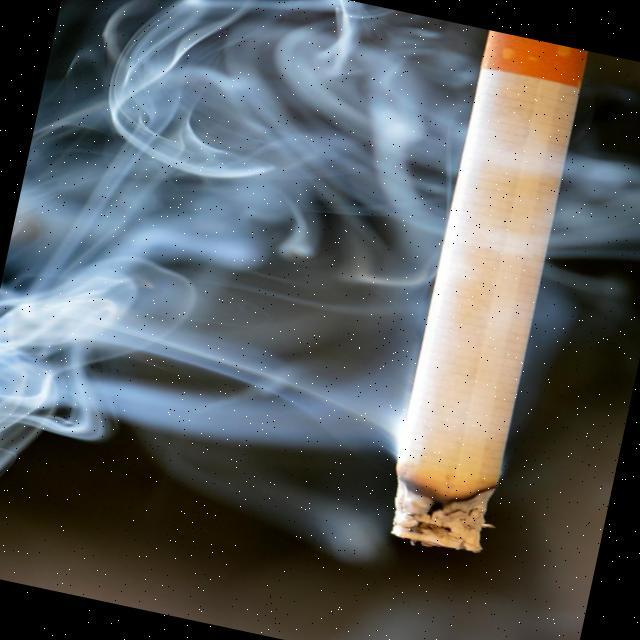cigarette: (372, 27, 606, 563)
